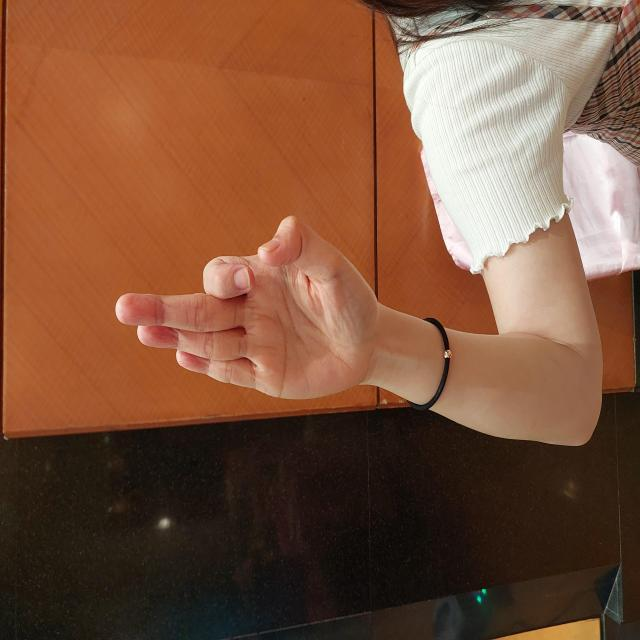F: (238, 113, 426, 380)
